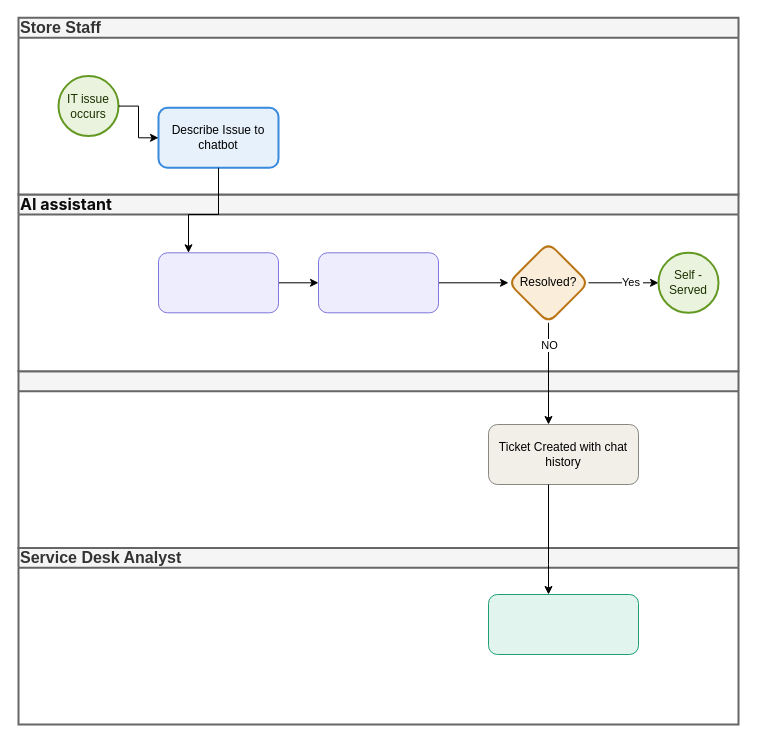
Some shapes in this 765 by 743 pixel diagram are drawn without their labels. Each missing label, with the box of its shape:
Analyst Process the ticket further: (488, 594, 638, 654)
Guide the fix documented steps: (318, 252, 438, 313)
Identify the Issue and verify identity: (158, 252, 278, 313)
Topdesk: (17, 370, 739, 548)
